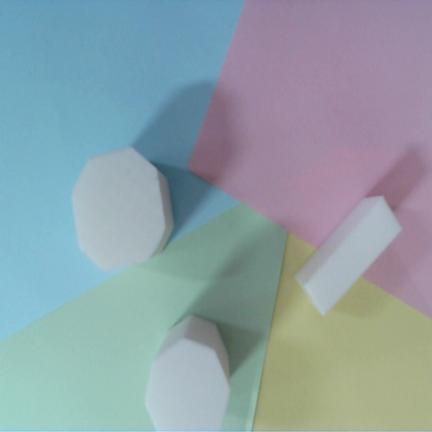Paralelepipedo: (295, 196, 401, 314)
Prisma_hexagonal: (72, 147, 173, 270), (145, 315, 230, 430)
